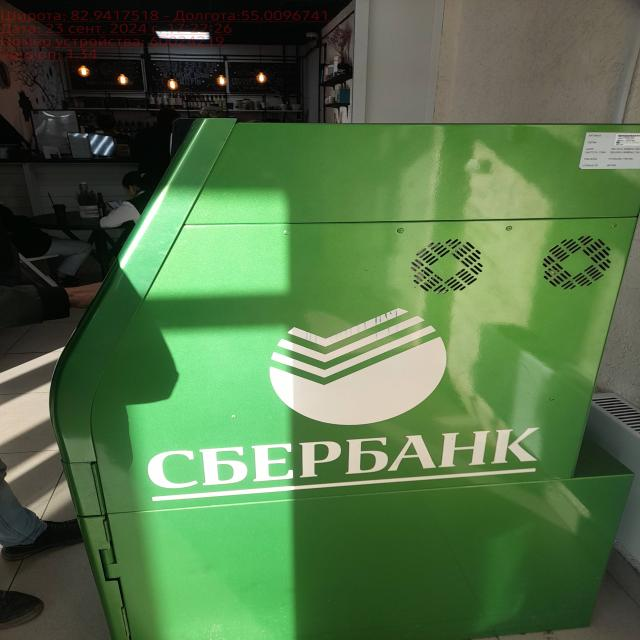bank: (46, 110, 640, 640)
